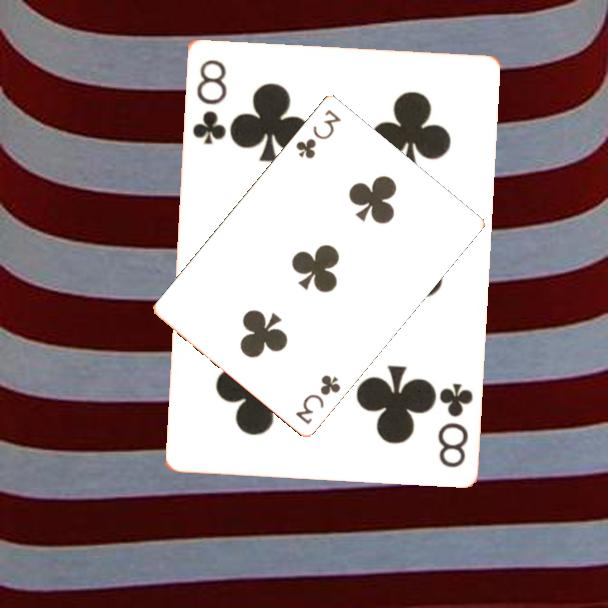c03: (292, 105, 344, 161), (292, 371, 343, 427)
c08: (188, 56, 230, 147), (434, 379, 475, 470)
